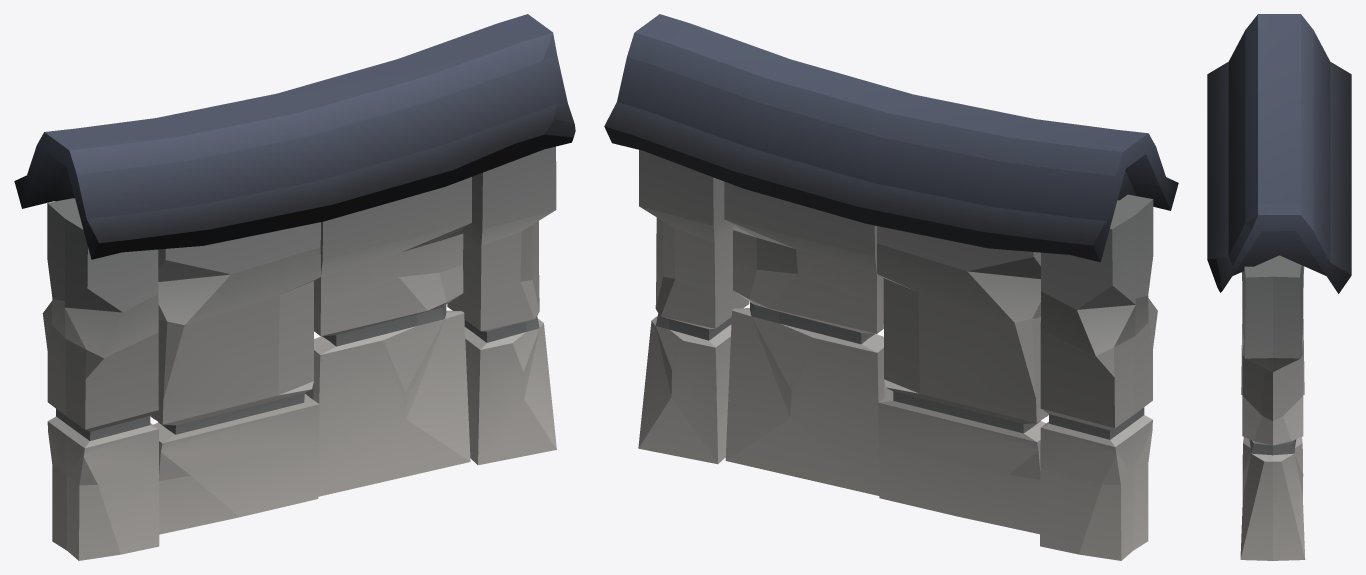
File: Wall.fbx
3 renders of one model, left to right at view 1: azimuth 30°, elevation 25°; view 2: azimuth 150°, elevation 25°; view 3: azimuth 270°, elevation 25°, orthographic. The views are drawn at different scales.
Visible parts, largest first — view 1: polySurface23; view 2: polySurface23; view 3: polySurface23.
Part boxes in pixels (box(x1,y1,x2,y2)): polySurface23: box(14, 14, 575, 560); polySurface23: box(604, 14, 1178, 560); polySurface23: box(1207, 14, 1351, 560).
Size of the model in its own units: 207 by 166 by 62.61.
